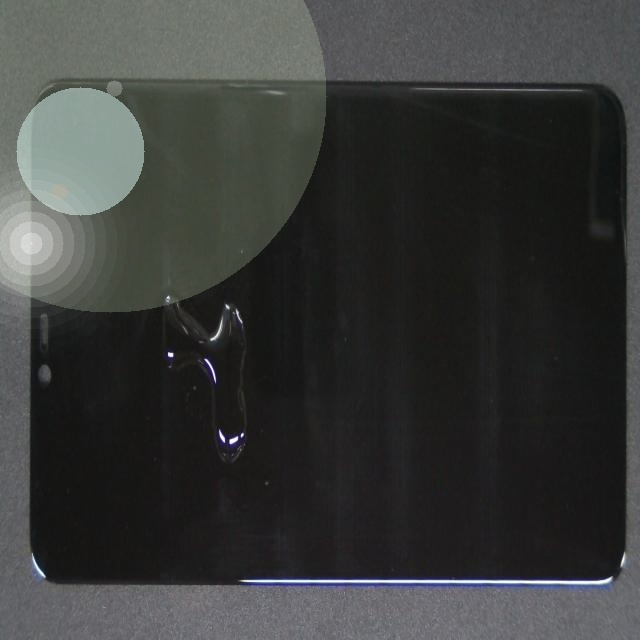oil: (64, 180, 273, 543)
